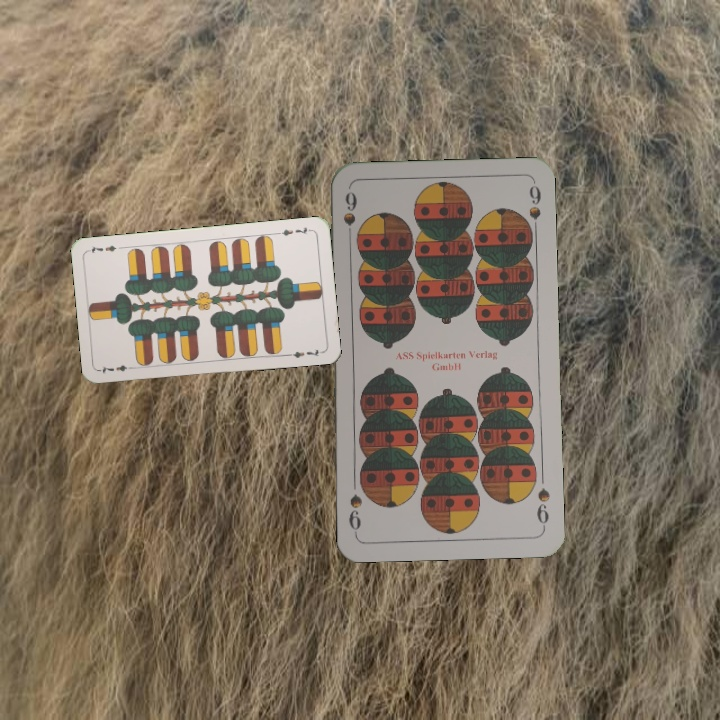E7: (273, 223, 314, 239), (96, 361, 137, 376)
S9: (339, 187, 359, 246), (533, 484, 552, 531)
